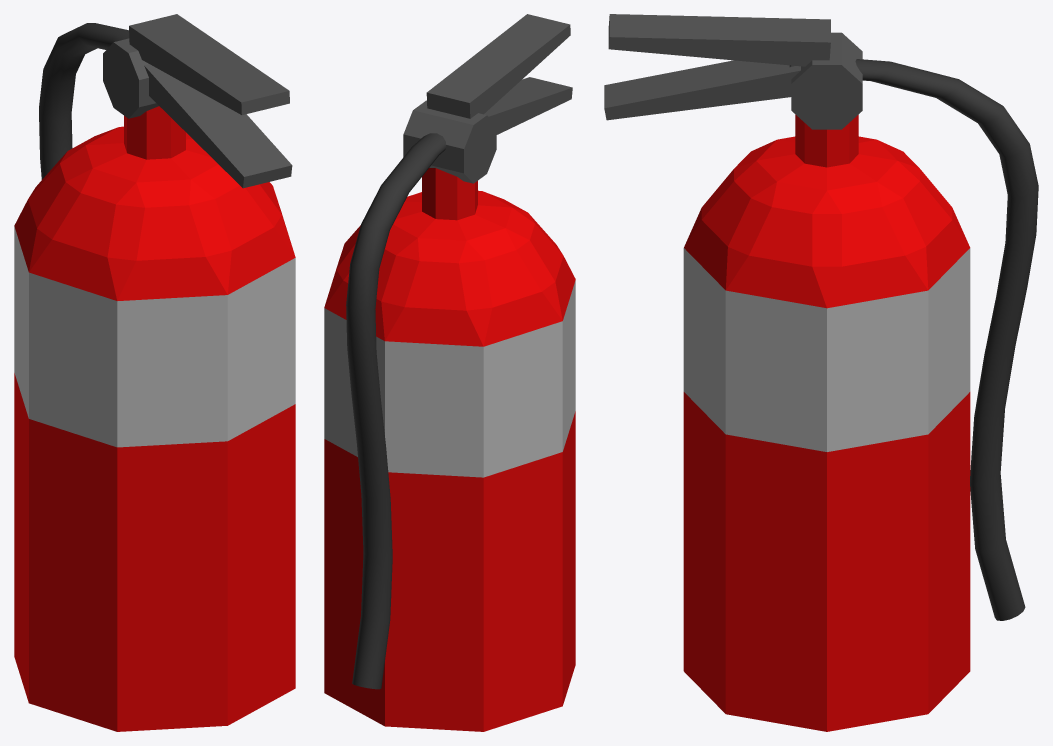
Rendered from Brandslukker.fbx.
The picture shows the model from 3 angles, left to right: view 1: azimuth 30°, elevation 25°; view 2: azimuth 150°, elevation 25°; view 3: azimuth 270°, elevation 25°; orthographic projection. The views are drawn at different scales.
Parts seen in each view (by area): view 1: Brandslukker; view 2: Brandslukker; view 3: Brandslukker.
Boxes of the visible parts, x1,y1,x2,y2 form: Brandslukker: (14,14,295,731); Brandslukker: (324,14,575,731); Brandslukker: (604,14,1038,731).
Size of the model in its own units: 35.05 by 87.18 by 53.15.
